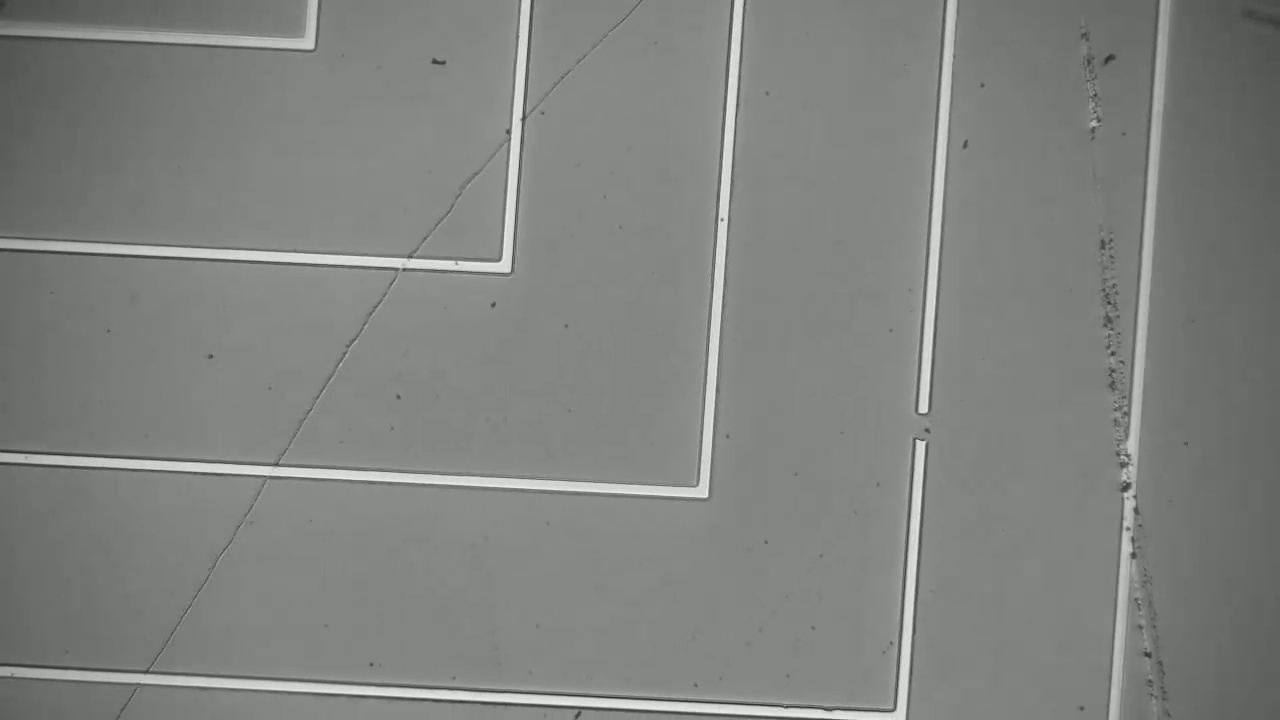open: (893, 386, 949, 458)
scratch: (109, 6, 631, 717), (1064, 9, 1178, 709)
